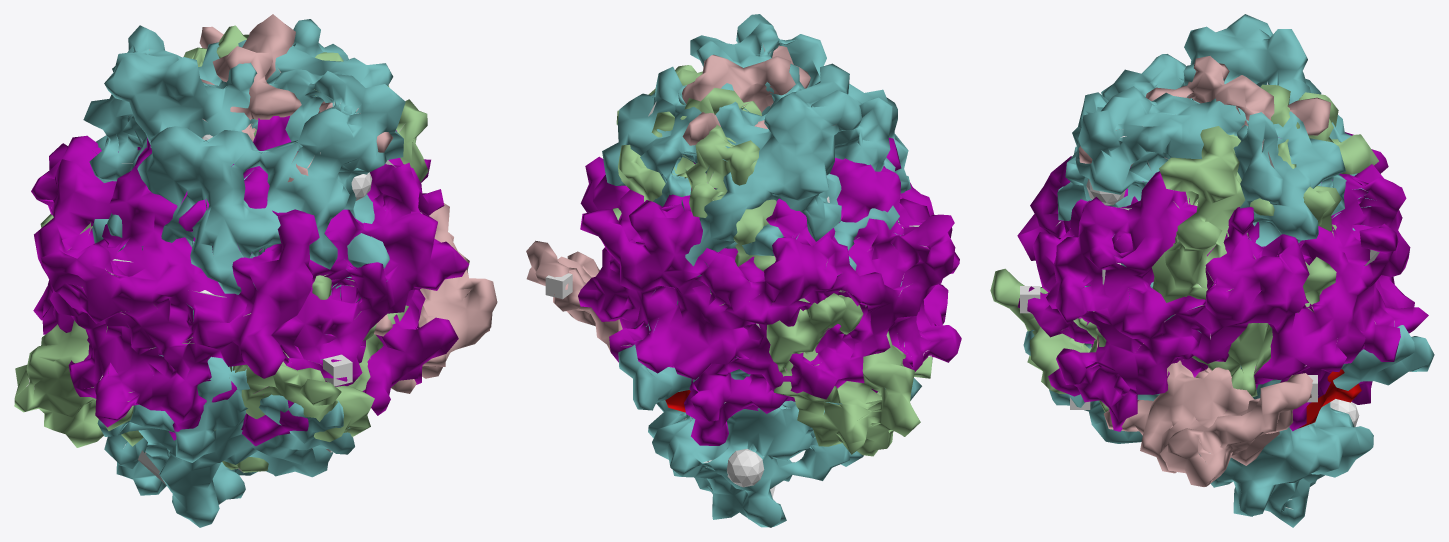
Rendered from nidogen_lowpoly.fbx.
3 renders of one model, left to right at view 1: azimuth 30°, elevation 25°; view 2: azimuth 150°, elevation 25°; view 3: azimuth 270°, elevation 25°, orthographic. The views are drawn at different scales.
Parts seen in each view (by area): view 1: nidogen_surf.023, nidogen_surf.008, nidogen_surf.064, nidogen_surf.005, c_end.003; view 2: nidogen_surf.023, nidogen_surf.008, nidogen_surf.064, nidogen_surf.005, c_start.001, c_end.004; view 3: nidogen_surf.023, nidogen_surf.008, nidogen_surf.064, nidogen_surf.005, egf_surf.
Part boxes in pixels (x1,y1,x2,y2): nidogen_surf.023: (31,116,469,446); nidogen_surf.008: (83,19,405,527); nidogen_surf.064: (14,25,428,472); nidogen_surf.005: (199,14,497,393); c_end.003: (323,354,352,386); nidogen_surf.023: (578,137,961,445); nidogen_surf.008: (602,14,921,527); nidogen_surf.064: (612,65,932,456); nidogen_surf.005: (526,45,810,353); c_start.001: (727,449,764,487); c_end.004: (545,273,572,299); nidogen_surf.023: (1017,132,1428,431); nidogen_surf.008: (1023,14,1434,527); nidogen_surf.064: (990,84,1378,412); nidogen_surf.005: (1078,56,1330,486); egf_surf: (1298,369,1361,428).
Bounding box in the file's own units: 58.17 × 62.24 × 54.07.
